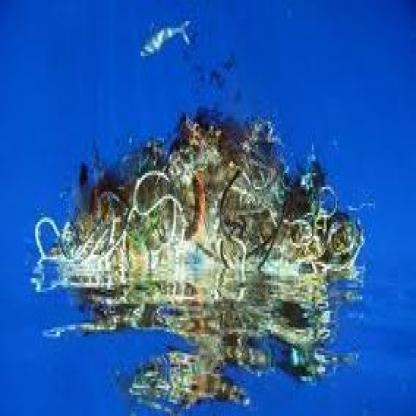net: (31, 112, 368, 288)
